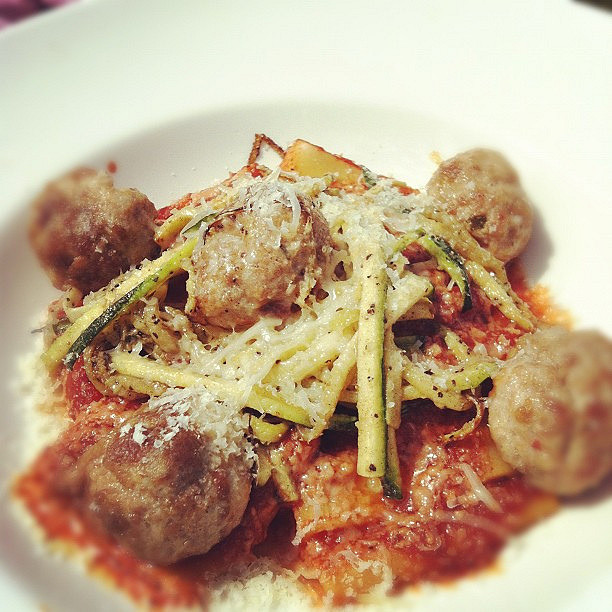meatballs: (93, 397, 248, 551), (489, 331, 612, 481), (190, 188, 313, 330), (38, 170, 152, 285), (444, 141, 531, 269)
